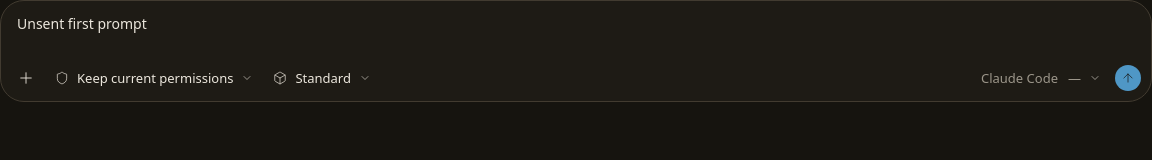
Test case: keeps sending steering when a running composer contains text
Click the button named "Send" at (1128, 78), box [1115,65,1141,91]
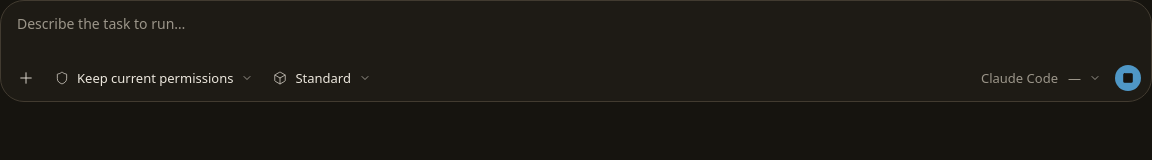
Check: the button named "Stop" is shown, box [1115,65,1141,91]
